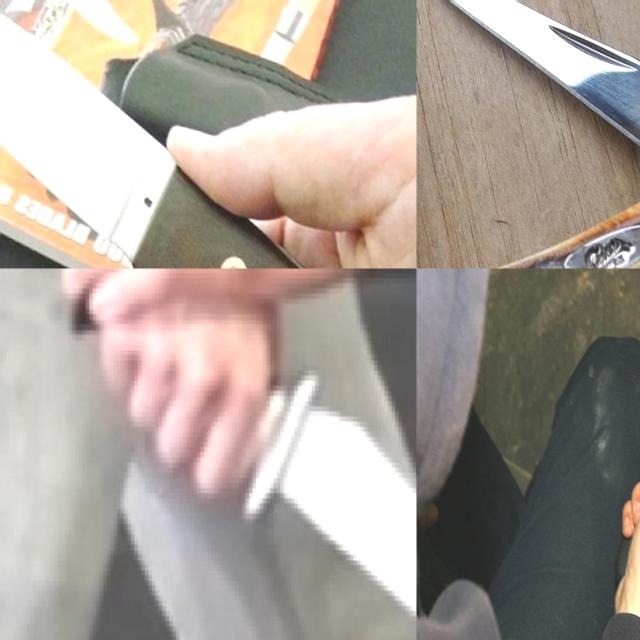Knife: (0, 14, 300, 268), (242, 368, 416, 640)
Knife_Handle: (114, 276, 416, 640)
